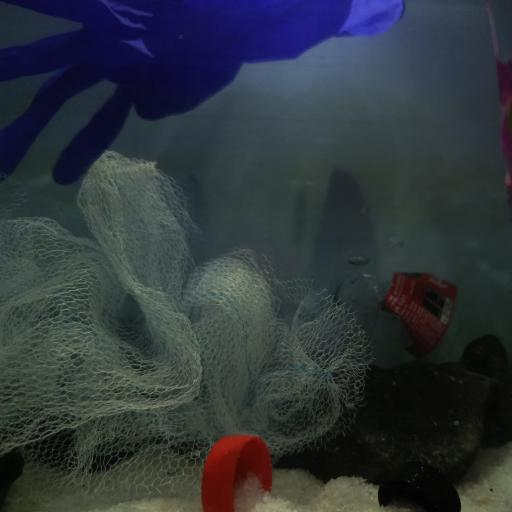bottle_cap: (200, 436, 274, 512), (378, 459, 462, 512)
glove: (0, 0, 405, 185)
net: (0, 149, 375, 494)
plastic_bottle: (328, 253, 496, 367)
